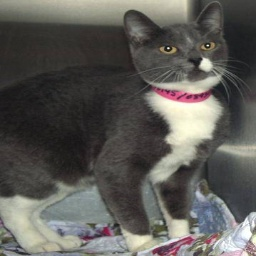cat: (2, 8, 241, 256)
